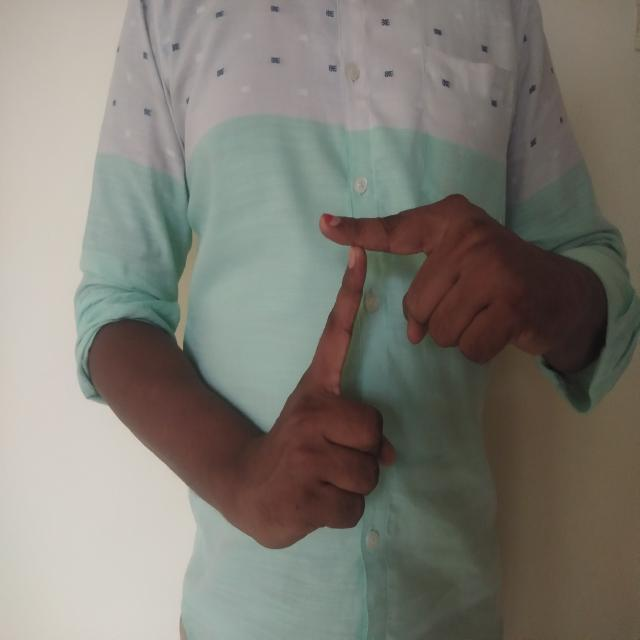T: (249, 171, 549, 555)
